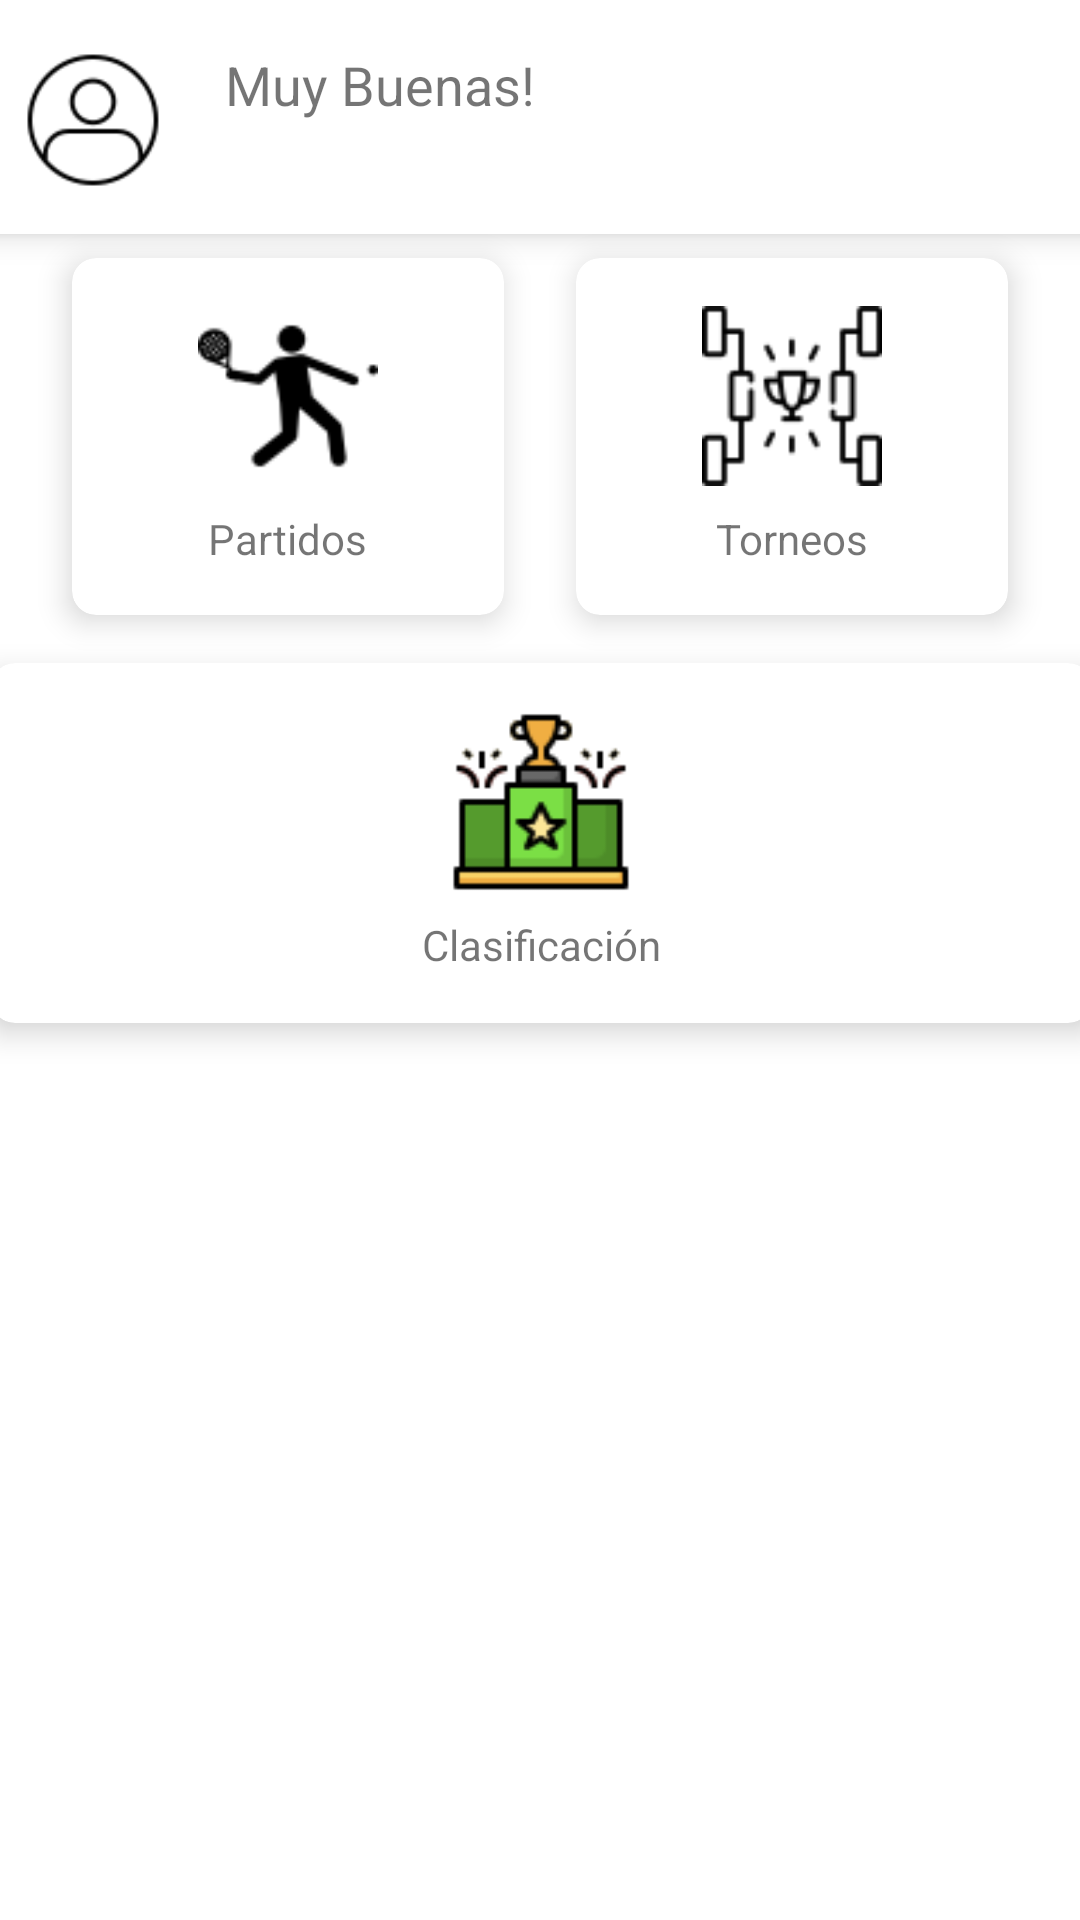

Icon bounding boxes for this 1080 × 1920 phone screenshot, format box=[x1, y1, x2, y2]:
foto perfil: box=[27, 54, 159, 186]
